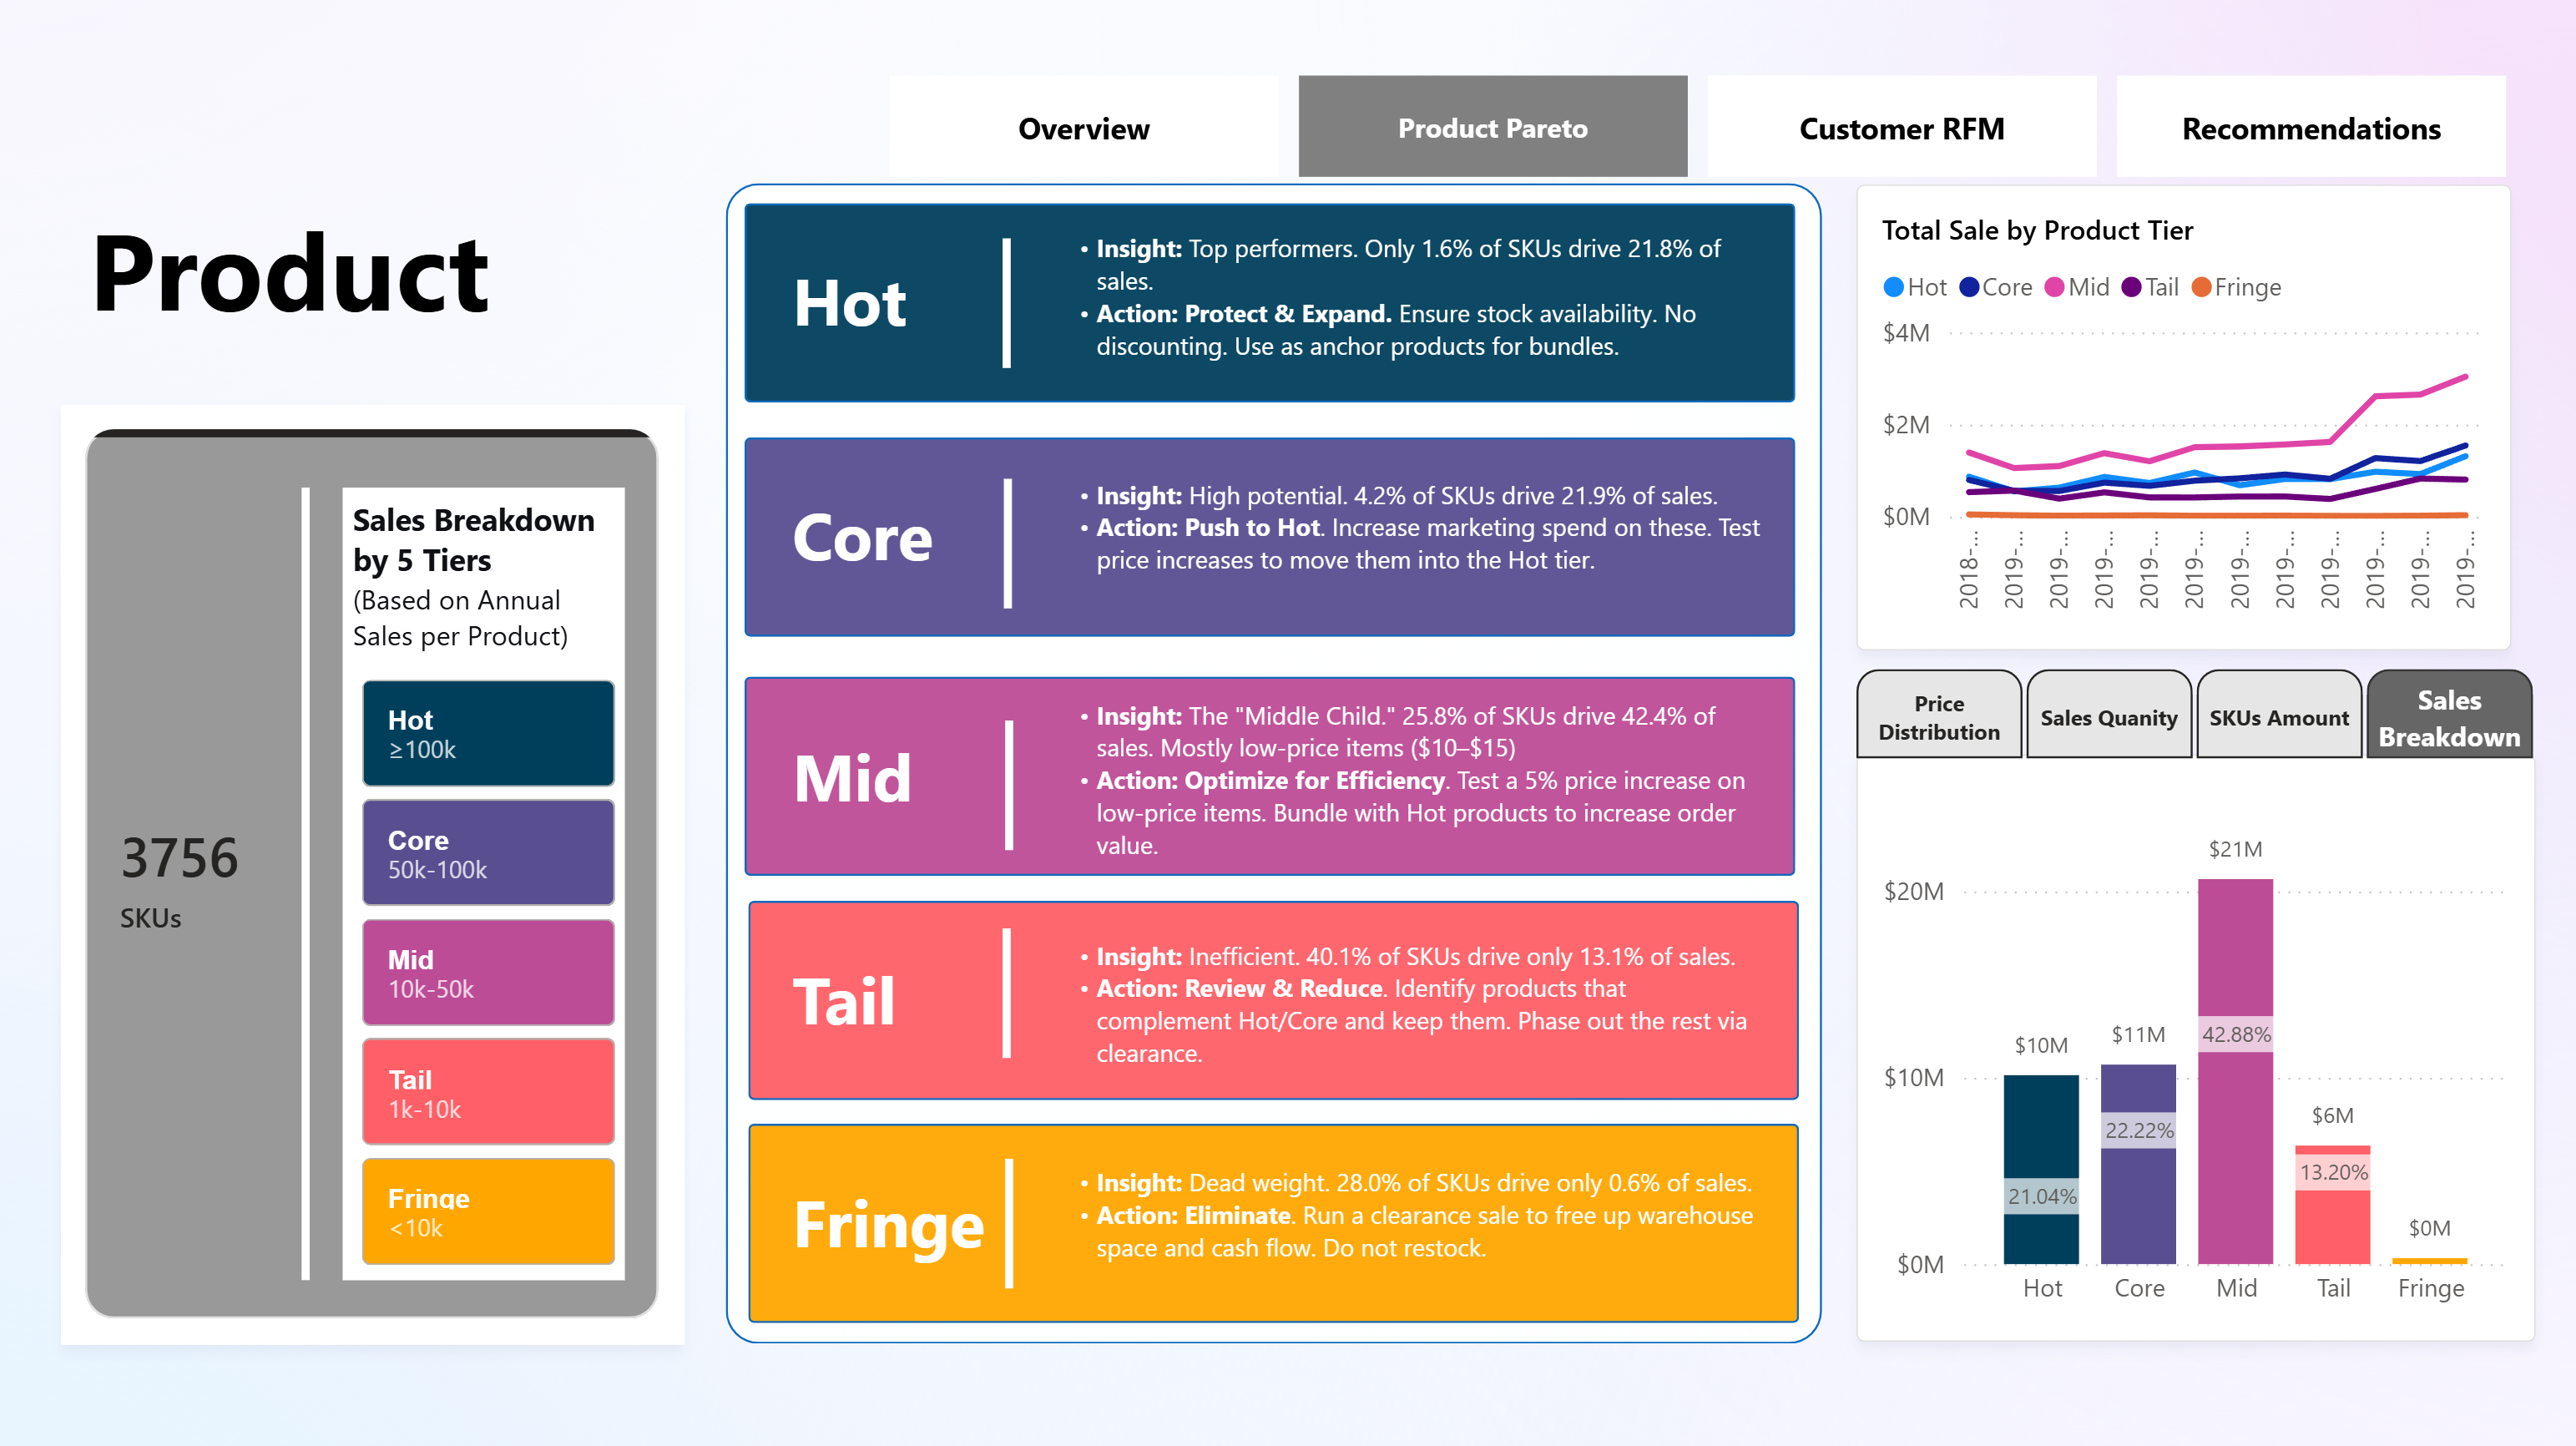

The dashboard page shown, as its layout file describes it:
{"tool":"powerbi","page":{"name":"Product Pareto","canvas":[1280,720],"ordinal":1},"visuals":[{"type":"lineClusteredColumnComboChart","title":"Sales Breakdown","fields":{"Y":["My Measures.Total Sale"],"Y2":["My Measures.% Total Sale"],"Category":["Product Sales Summary.Sales Tier"]},"box":[921.1,375.6,335.6,290],"z":3000},{"type":"bookmarkNavigator","box":[921,333,336,44],"z":4000},{"type":"textbox","box":[43.3,93.3,237.8,91.1],"z":5000},{"type":"cardVisual","title":"SKUs","fields":{"Data":["My Measures.Unique Product"]},"box":[34.8,202.6,307.8,463.7],"z":6000},{"type":"shape","box":[149,243.3,12.9,391.2],"z":7000},{"type":"textbox","title":"Text box - 5 Tiers","box":[173.9,243.5,139.1,391.6],"z":8000},{"type":"advancedSlicerVisual","title":"Sales Tier Slicer","fields":{"Values":["Sales Tier Definition.Product Tier"],"Label":["Min(Sales Tier Definition.Annual Sales per Product ($))"]},"box":[177.9,332.9,135.2,302.1],"z":9000},{"type":"shape","box":[362.8,93.6,541.2,573],"z":10000},{"type":"shape","box":[372.4,103.1,518.8,98.3],"z":11000},{"type":"shape","box":[372.4,218.6,518.8,98.3],"z":12000},{"type":"shape","box":[372.4,336.8,518.8,98.3],"z":13000},{"type":"shape","box":[374.2,557.9,518.8,98.3],"z":14000},{"type":"shape","box":[374.2,447.8,518.8,98.3],"z":15000},{"type":"textbox","box":[390.4,123.9,78.5,56.8],"z":16000},{"type":"textbox","box":[390.4,239.4,99.2,56.8],"z":17000},{"type":"textbox","box":[390.4,358.5,78.5,56.8],"z":18000},{"type":"textbox","box":[390.4,468.6,78.5,56.8],"z":19000},{"type":"textbox","box":[390.4,578.6,107.4,56.8],"z":20000},{"type":"textbox","box":[523,112.2,357.3,83],"z":21000},{"type":"shape","box":[492.4,120.3,18.9,64.1],"z":22000},{"type":"shape","box":[497.8,239.4,9,64.1],"z":23000},{"type":"shape","box":[493.3,358.5,18.9,64.1],"z":24000},{"type":"shape","box":[492.4,461.3,18.9,64.1],"z":25000},{"type":"shape","box":[493.3,575,18.9,64.1],"z":26000},{"type":"textbox","box":[523,234,357.3,83],"z":27000},{"type":"textbox","box":[523,342.2,357.3,93.8],"z":28000},{"type":"textbox","box":[523,461.3,357.3,83],"z":29000},{"type":"textbox","box":[523,573.2,357.3,83],"z":30000},{"type":"lineChart","title":"Total Sale by Product Tier","fields":{"Category":["DateTable.Year-Month"],"Y":["My Measures.Total Sale"],"Series":["Product Tier Definition.Product Tier"]},"box":[921,94,323,230],"z":31000},{"type":"pageNavigator","box":[444,40,800,50],"z":32000}]}

Visuals, with their boxes in screenshot pixels (x1, y1, x2, y2), scaled from the page's 1280x720 canvas onto the 2576x1446 screenshot:
"Sales Breakdown" lineClusteredColumnComboChart: bbox(1854, 755, 2529, 1337)
bookmarkNavigator: bbox(1853, 669, 2530, 757)
textbox: bbox(87, 187, 566, 371)
"SKUs" cardVisual: bbox(70, 407, 689, 1338)
shape: bbox(300, 488, 326, 1274)
"Text box - 5 Tiers" textbox: bbox(350, 489, 630, 1276)
"Sales Tier Slicer" advancedSlicerVisual: bbox(358, 669, 630, 1276)
shape: bbox(730, 188, 1819, 1339)
shape: bbox(750, 207, 1794, 404)
shape: bbox(750, 439, 1794, 636)
shape: bbox(750, 676, 1794, 874)
shape: bbox(753, 1120, 1797, 1318)
shape: bbox(753, 899, 1797, 1097)
textbox: bbox(785, 249, 943, 363)
textbox: bbox(785, 481, 985, 595)
textbox: bbox(785, 720, 943, 834)
textbox: bbox(785, 941, 943, 1055)
textbox: bbox(785, 1162, 1002, 1276)
textbox: bbox(1053, 225, 1771, 392)
shape: bbox(991, 241, 1029, 371)
shape: bbox(1002, 481, 1020, 609)
shape: bbox(993, 720, 1031, 849)
shape: bbox(991, 927, 1029, 1055)
shape: bbox(993, 1155, 1031, 1283)
textbox: bbox(1053, 470, 1771, 637)
textbox: bbox(1053, 687, 1771, 876)
textbox: bbox(1053, 927, 1771, 1093)
textbox: bbox(1053, 1151, 1771, 1318)
"Total Sale by Product Tier" lineChart: bbox(1853, 189, 2503, 650)
pageNavigator: bbox(893, 80, 2503, 180)
